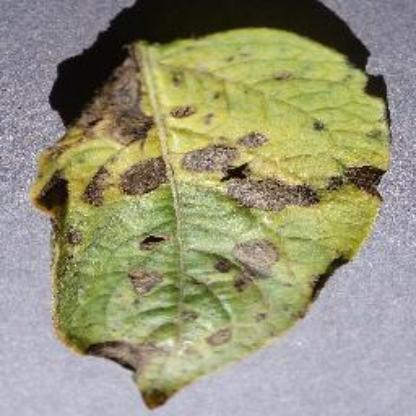Early-Blight: (25, 1, 416, 413)
